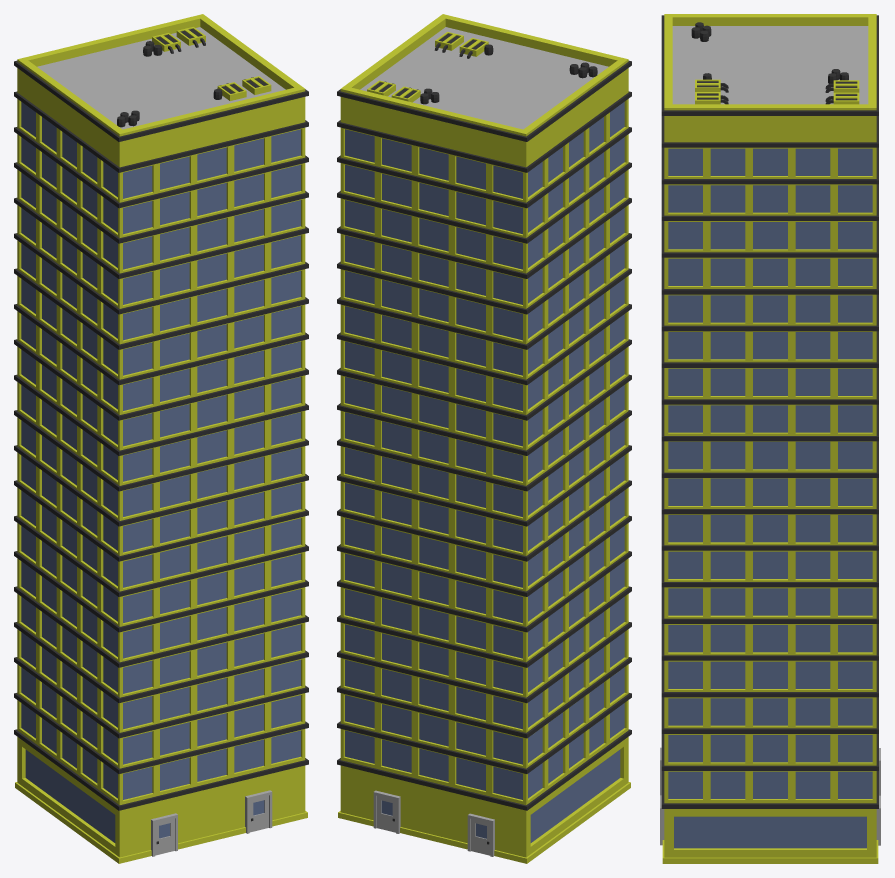
File: SquareSingleLevel.fbx
3 views of the same model, side by side, from view 1: azimuth 30°, elevation 25°; view 2: azimuth 150°, elevation 25°; view 3: azimuth 270°, elevation 25° (orthographic). The views are drawn at different scales.
Visible parts, largest first — view 1: Building13_1.000; view 2: Building13_1.000; view 3: Building13_1.000.
Boxes of the visible parts, x1,y1,x2,y2 form: Building13_1.000: (14, 14, 308, 863); Building13_1.000: (337, 14, 631, 863); Building13_1.000: (660, 14, 880, 863).
Bounding box in the file's own units: 706 × 2588 × 685.
